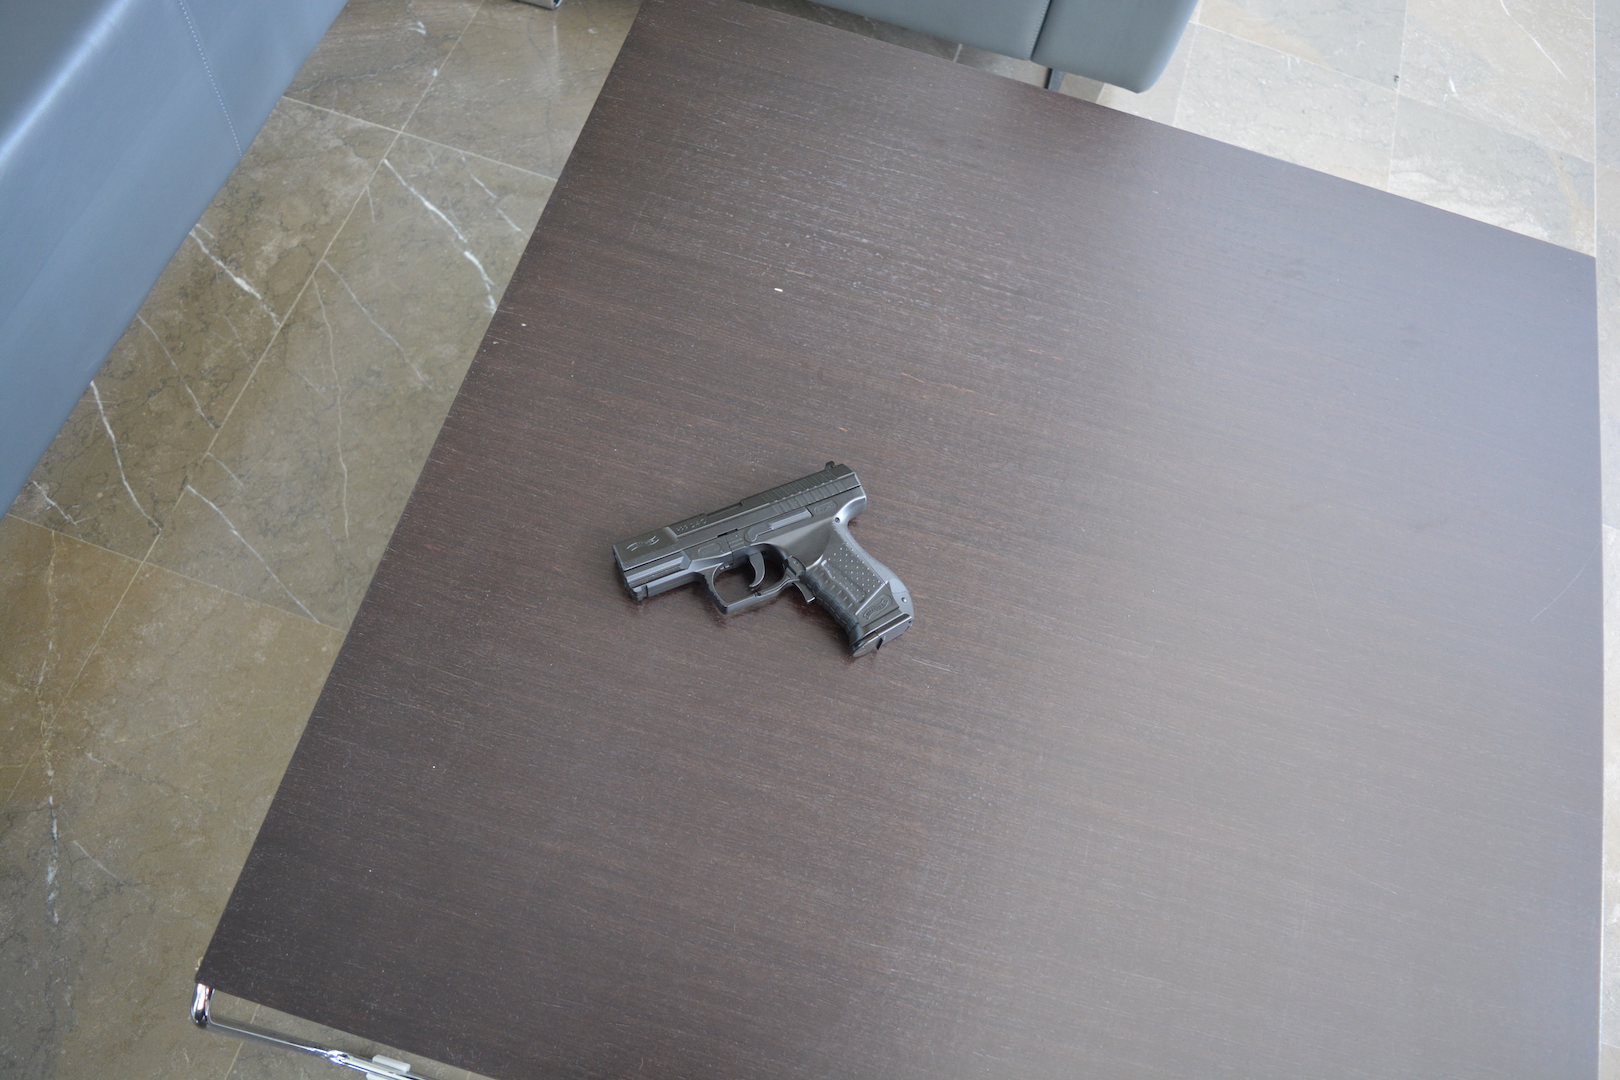pistol: (611, 459, 915, 661)
